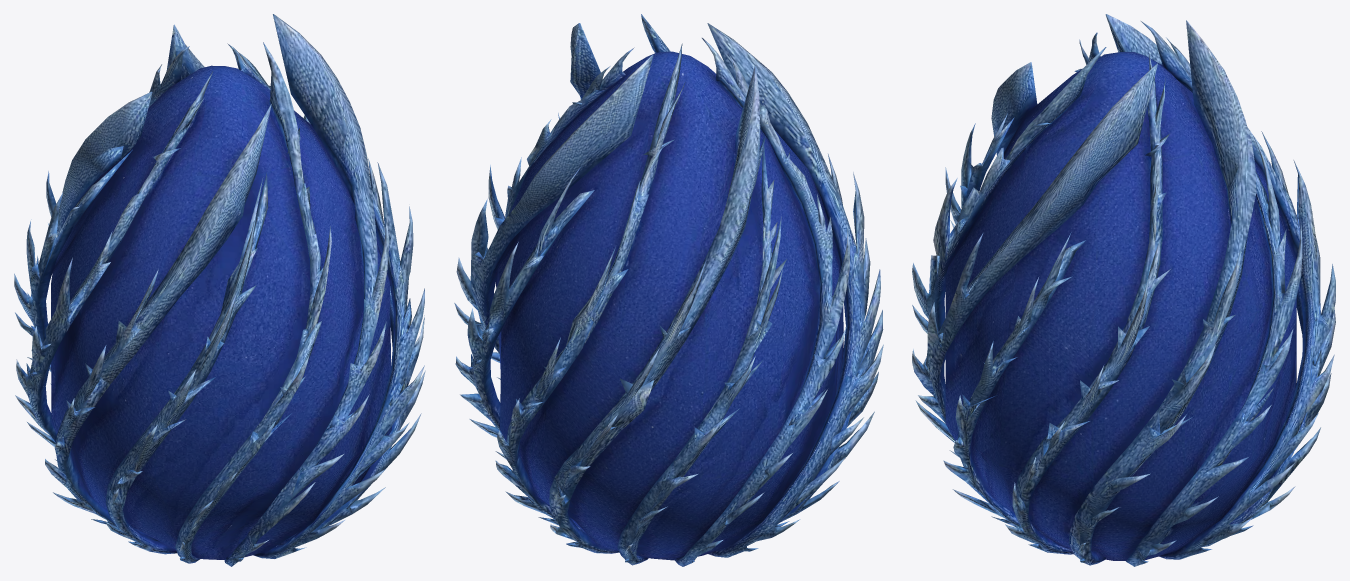
3 views of the same model, side by side, from view 1: azimuth 30°, elevation 25°; view 2: azimuth 150°, elevation 25°; view 3: azimuth 270°, elevation 25° (orthographic). The views are drawn at different scales.
Parts seen in each view (by area): view 1: tripo_node_f2c0e0a4-f315-4060-88fa-d86051e51806; view 2: tripo_node_f2c0e0a4-f315-4060-88fa-d86051e51806; view 3: tripo_node_f2c0e0a4-f315-4060-88fa-d86051e51806.
Boxes of the visible parts, x1,y1,x2,y2 form: tripo_node_f2c0e0a4-f315-4060-88fa-d86051e51806: (14, 14, 425, 566); tripo_node_f2c0e0a4-f315-4060-88fa-d86051e51806: (454, 14, 883, 566); tripo_node_f2c0e0a4-f315-4060-88fa-d86051e51806: (912, 14, 1335, 566).
Bounding box in the file's own units: 0.7441 × 0.998 × 0.7402.
Materials: 1 (1 with a texture image).
